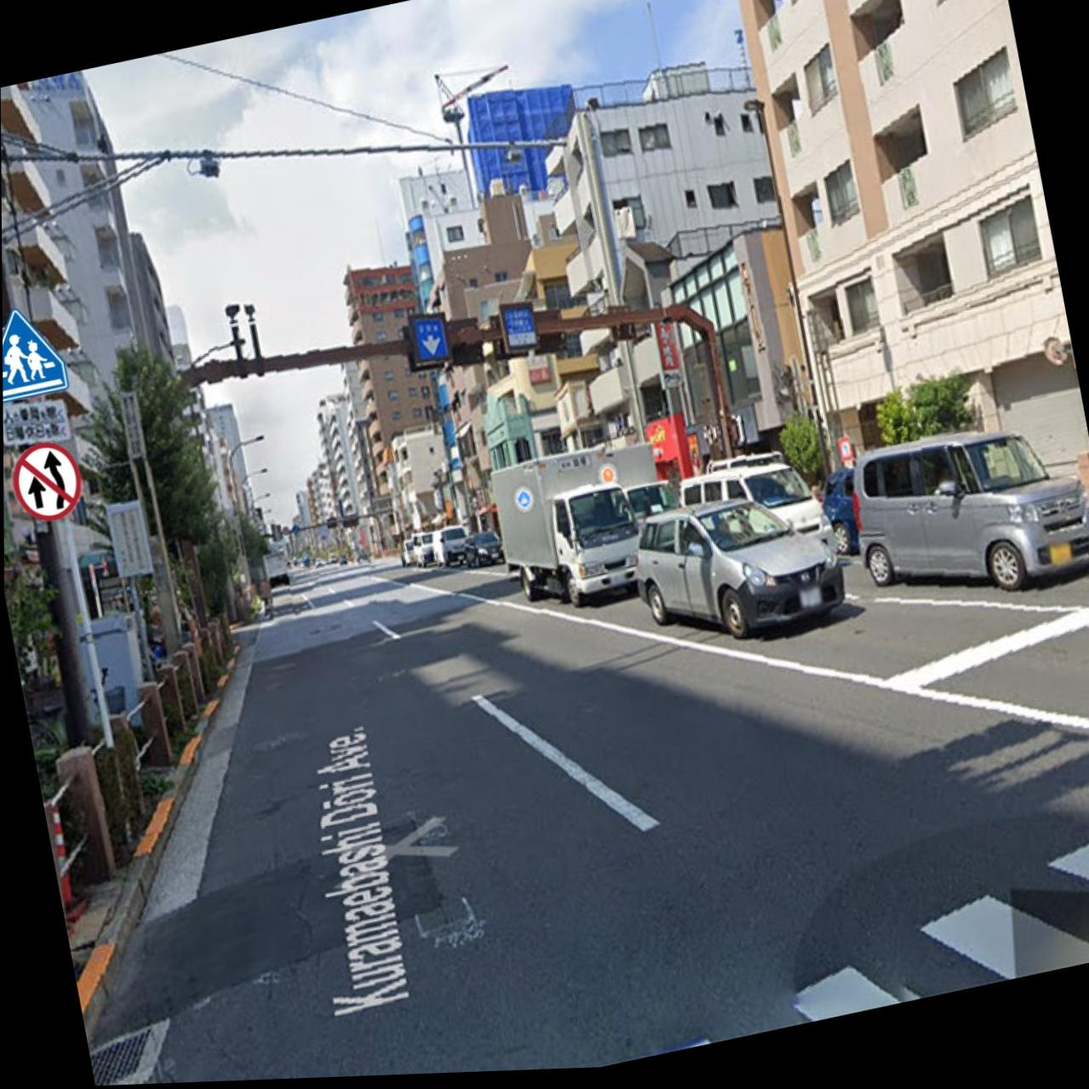cone: (60, 208, 73, 516)
